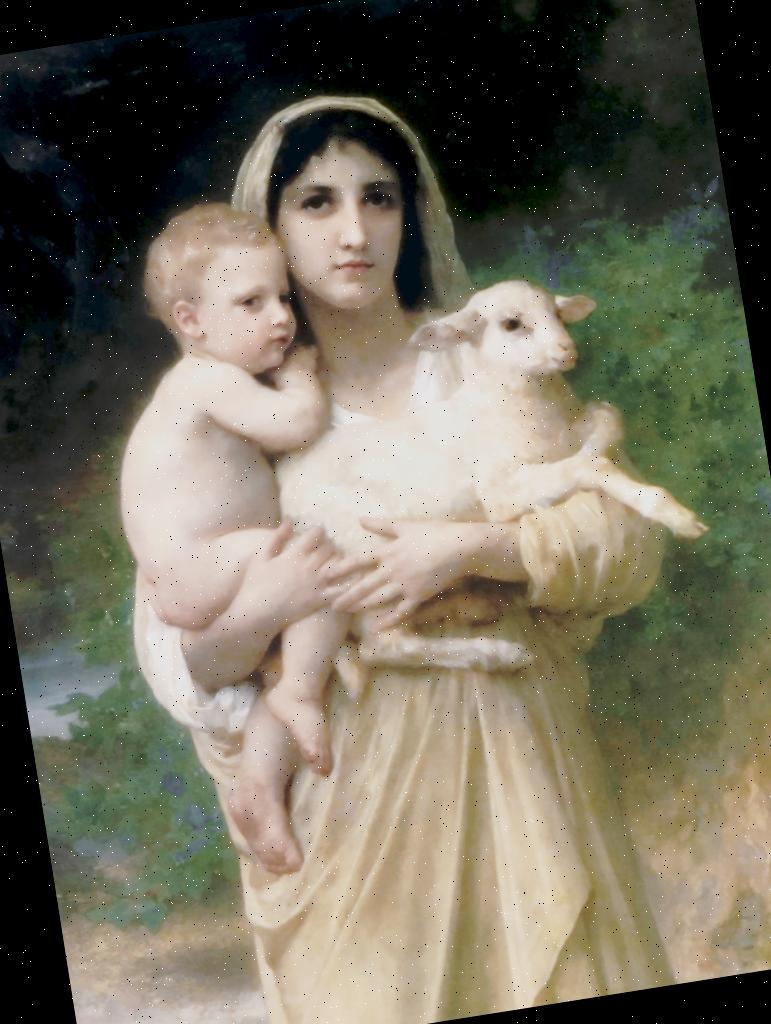Sheep: (247, 257, 726, 706)
